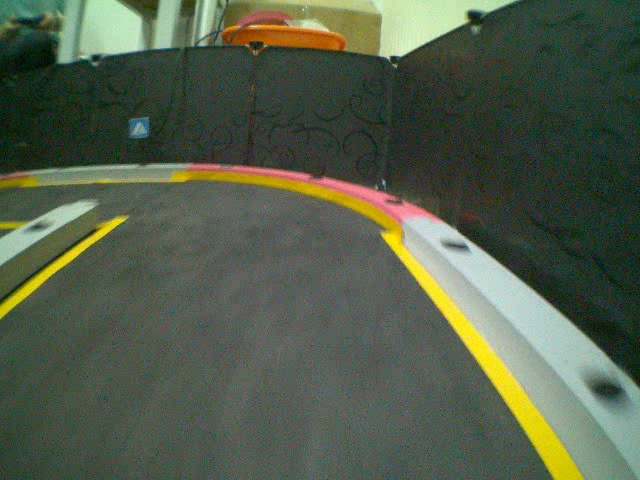crossing: (128, 117, 150, 139)
